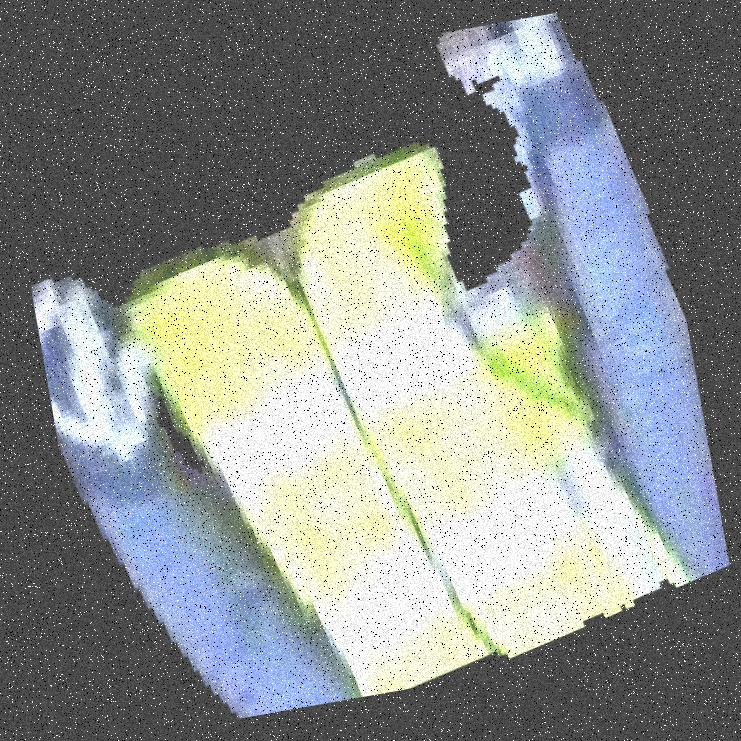Pessoa: (228, 0, 740, 740)
